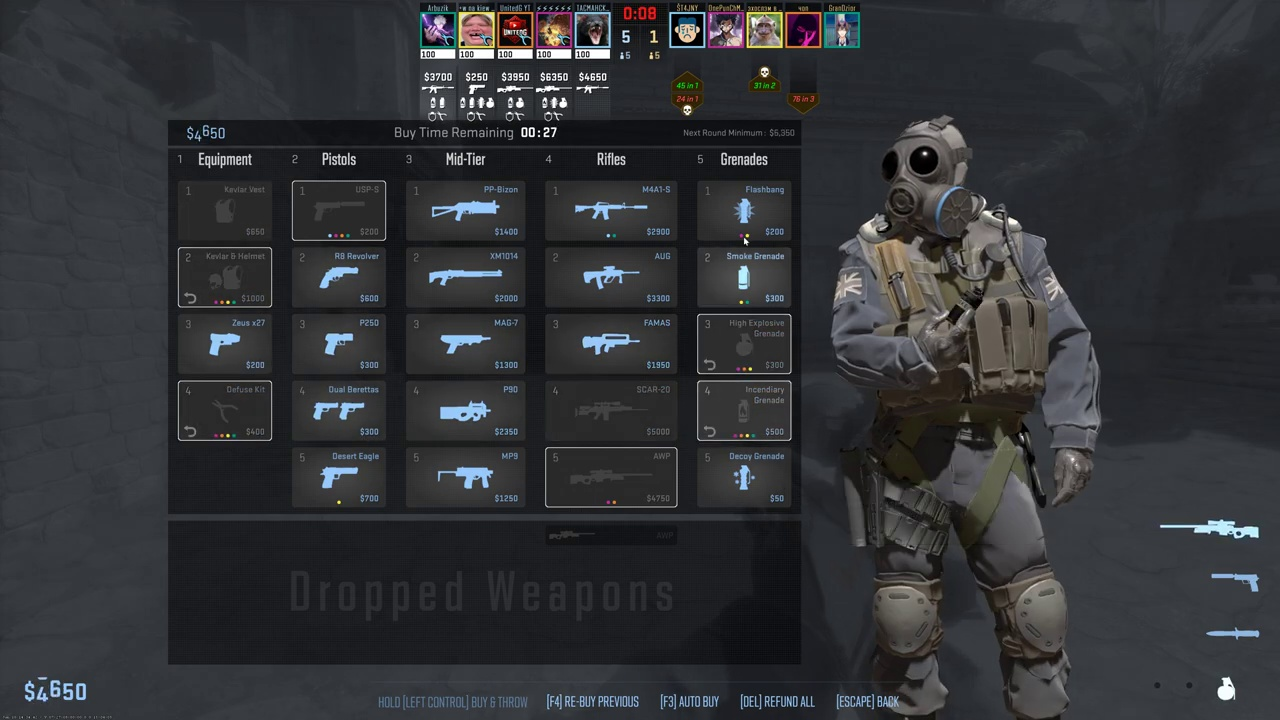CT: (842, 120, 1075, 717)
